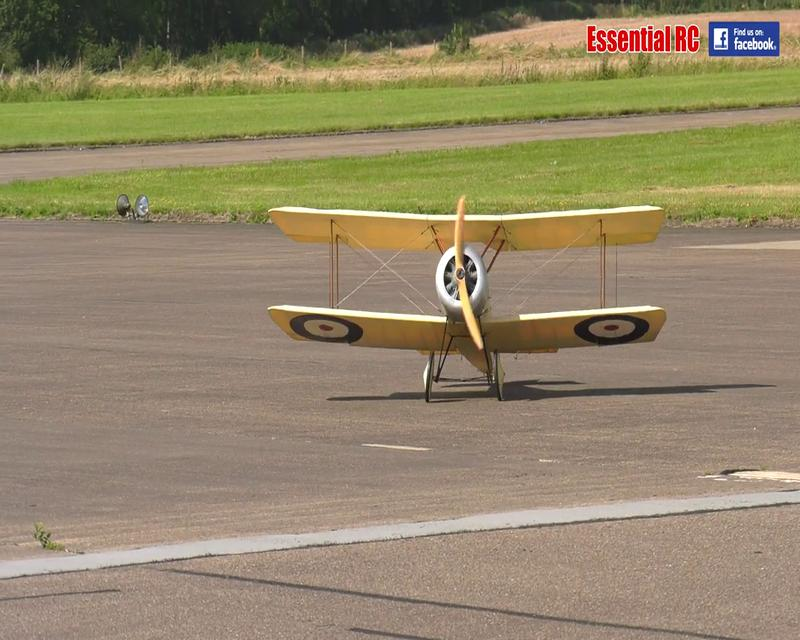UAV: (265, 195, 667, 402)
